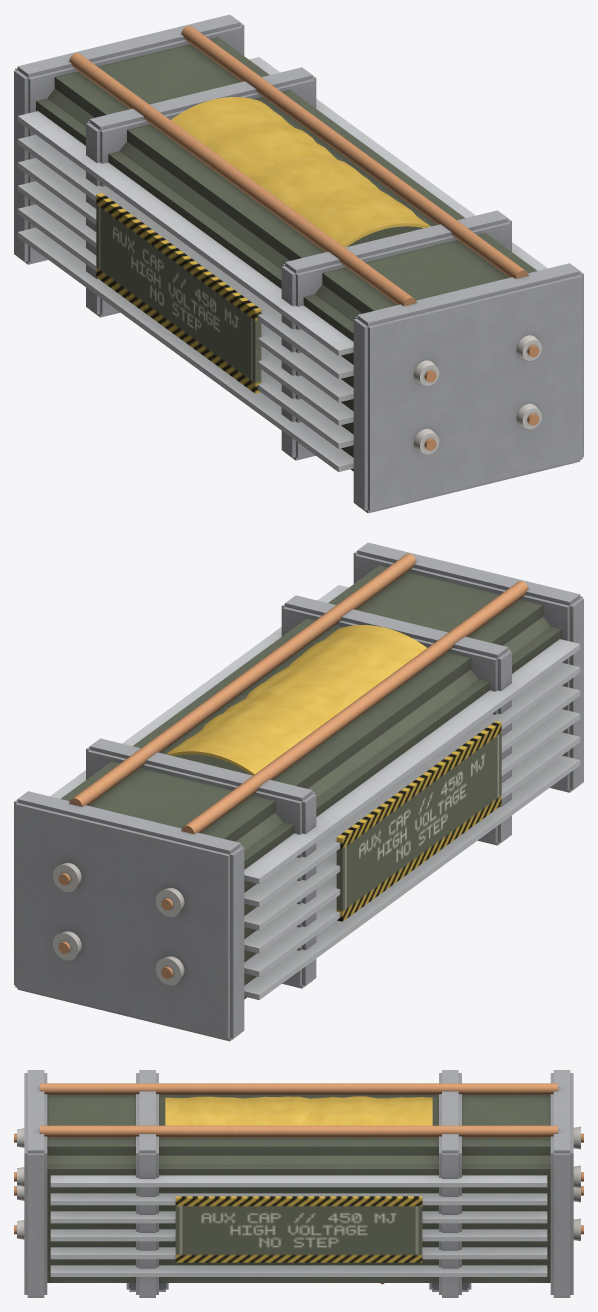
The model's file is att_capacitor_pod.glb.
3 views of the same model, one above another, from view 1: azimuth 30°, elevation 25°; view 2: azimuth 150°, elevation 25°; view 3: azimuth 270°, elevation 25° (orthographic). The views are drawn at different scales.
Parts seen in each view (by area): view 1: TEX_Capacitor_Pod_Mesh; view 2: TEX_Capacitor_Pod_Mesh; view 3: TEX_Capacitor_Pod_Mesh.
Boxes of the visible parts, x1,y1,x2,y2 form: TEX_Capacitor_Pod_Mesh: (14,14,583,513); TEX_Capacitor_Pod_Mesh: (14,542,583,1041); TEX_Capacitor_Pod_Mesh: (14,1070,583,1297).
Bounding box in the file's own units: 1.05 × 0.9435 × 2.73.
Materials: 1 (1 with a texture image).
